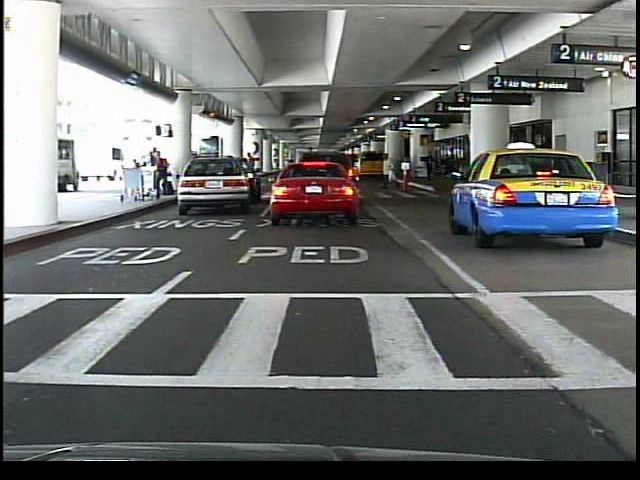person: (278, 155, 300, 207), (240, 147, 260, 202), (153, 146, 168, 196), (303, 151, 317, 203), (382, 150, 397, 188), (422, 148, 436, 182)
